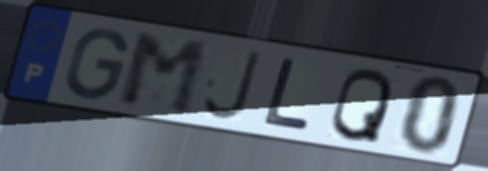0: (395, 72, 465, 157)
G: (63, 26, 132, 103)
J: (199, 47, 265, 123)
L: (261, 55, 315, 133)
M: (117, 31, 212, 119)
Q: (327, 66, 396, 146)
